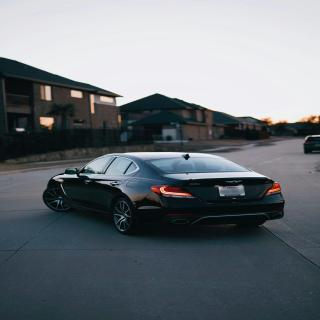Normal_vehicle: (44, 150, 285, 234), (302, 135, 320, 154)
